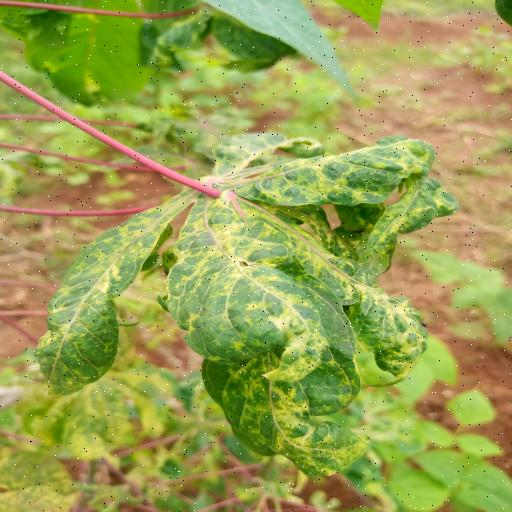Cassava_Mosaic: (37, 129, 448, 480)
